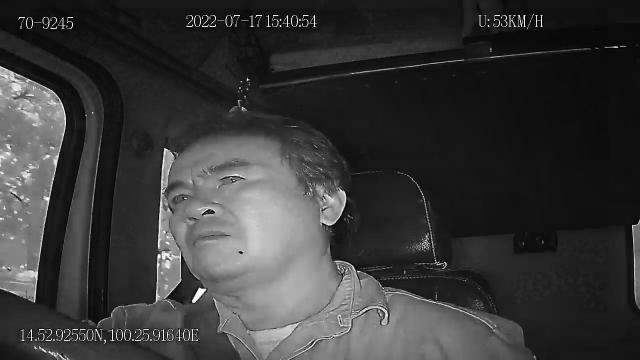SafeDriving: (210, 163, 258, 193), (162, 182, 200, 210)
Seatbelt: (181, 286, 243, 360)
